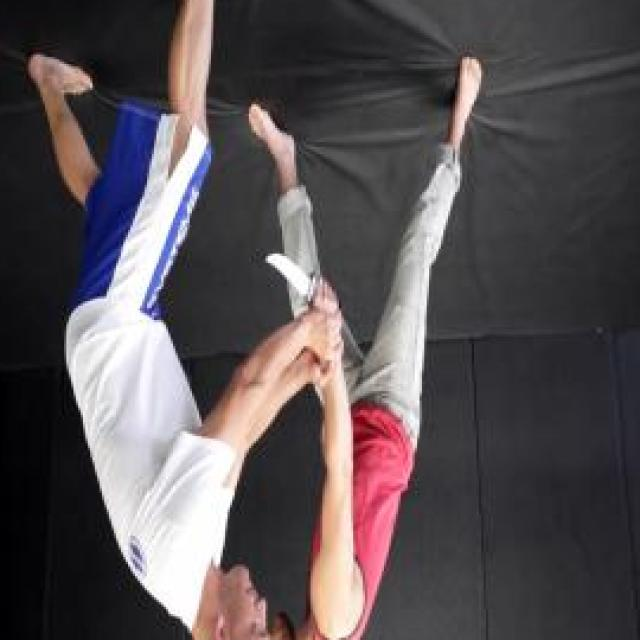knife: (261, 244, 346, 313)
